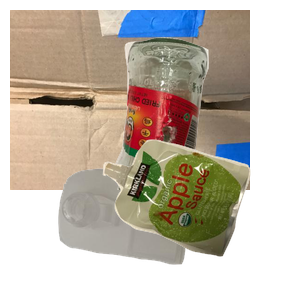cardboard: (10, 10, 250, 190)
glass: (112, 35, 300, 215)
plastic: (56, 166, 241, 300)
trash: (100, 137, 300, 300)
